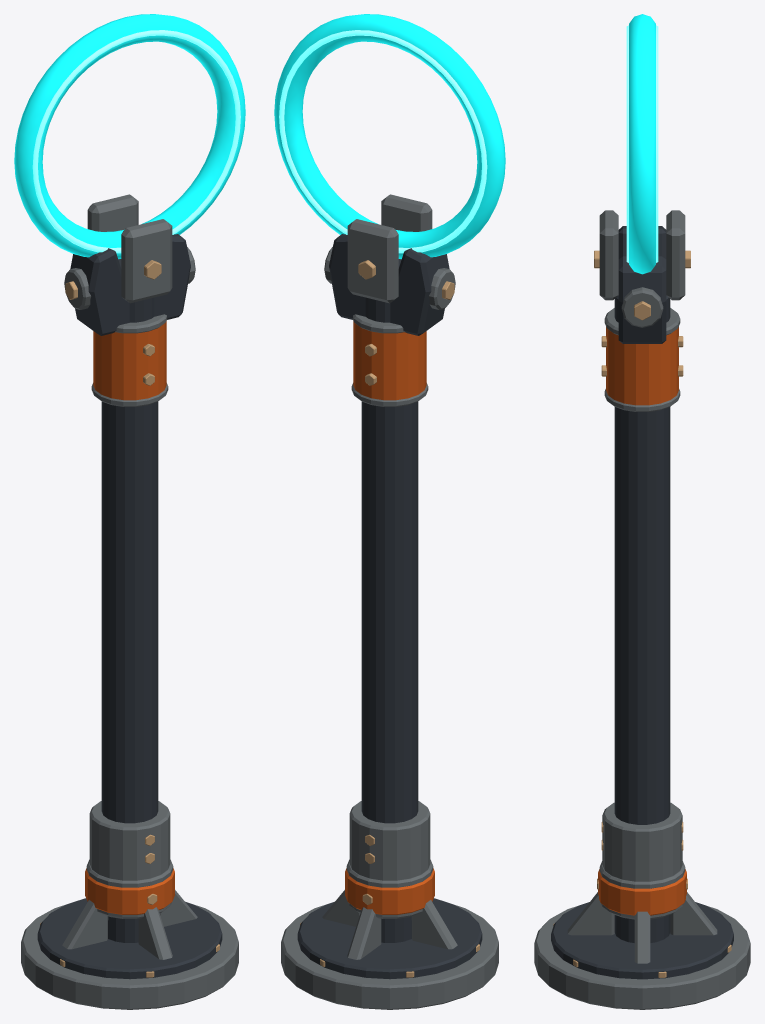
File: wsc-prop-034-grapple-hook-post.glb
3 views of the same model, side by side, from view 1: azimuth 30°, elevation 25°; view 2: azimuth 150°, elevation 25°; view 3: azimuth 270°, elevation 25° (orthographic).
Visible parts, largest first — view 1: dark, steel, cyan, orange, glass, rivet; view 2: dark, steel, cyan, orange, glass, rivet; view 3: dark, steel, orange, cyan, glass, rivet.
Part boxes in pixels (x1,y1,x2,y2): dark: [37, 234, 222, 979]; steel: [21, 194, 238, 1009]; cyan: [14, 14, 245, 259]; orange: [85, 321, 174, 914]; glass: [32, 30, 240, 253]; rivet: [40, 260, 219, 977]; dark: [297, 234, 482, 979]; steel: [281, 194, 498, 1009]; cyan: [274, 14, 505, 259]; orange: [345, 321, 434, 914]; glass: [279, 30, 487, 253]; rivet: [300, 260, 479, 977]; dark: [551, 226, 733, 979]; steel: [534, 210, 750, 1009]; orange: [598, 327, 686, 915]; cyan: [629, 14, 655, 274]; glass: [626, 25, 658, 262]; rivet: [553, 250, 731, 977].
Size of the model in its own units: 0.736 by 2.92 by 0.61.
